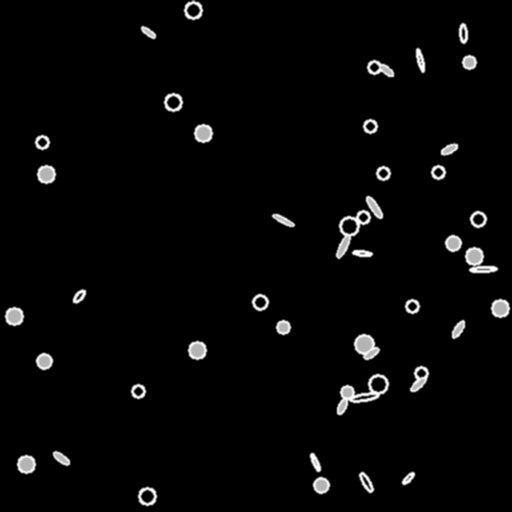pseudomonas: (334, 233, 352, 259), (365, 195, 383, 219), (272, 212, 294, 228), (409, 375, 427, 393), (450, 319, 466, 339), (358, 472, 374, 492), (51, 450, 71, 466), (350, 392, 378, 402), (71, 288, 87, 304), (140, 25, 156, 39), (378, 63, 394, 77), (363, 346, 379, 360), (415, 49, 425, 71), (309, 453, 321, 471), (336, 397, 348, 415), (401, 471, 415, 485), (441, 143, 457, 155), (470, 266, 496, 272), (353, 249, 371, 257), (459, 24, 467, 42)
synechocystis: (340, 217, 358, 235), (355, 335, 373, 353), (369, 375, 387, 393), (139, 488, 155, 504), (189, 342, 205, 358), (185, 2, 201, 18), (466, 248, 482, 264), (18, 456, 34, 472), (165, 94, 181, 110), (492, 300, 508, 316), (6, 308, 22, 324), (38, 166, 54, 182), (195, 125, 211, 141), (471, 212, 485, 226), (253, 295, 267, 309), (446, 236, 460, 250), (314, 478, 328, 492), (37, 354, 51, 368), (415, 367, 427, 379), (277, 321, 289, 333), (36, 136, 48, 148), (463, 56, 475, 68), (368, 61, 380, 73), (406, 300, 418, 312), (377, 167, 389, 179), (432, 166, 444, 178), (364, 120, 376, 132), (357, 211, 369, 223), (132, 385, 144, 397), (341, 386, 353, 398)
